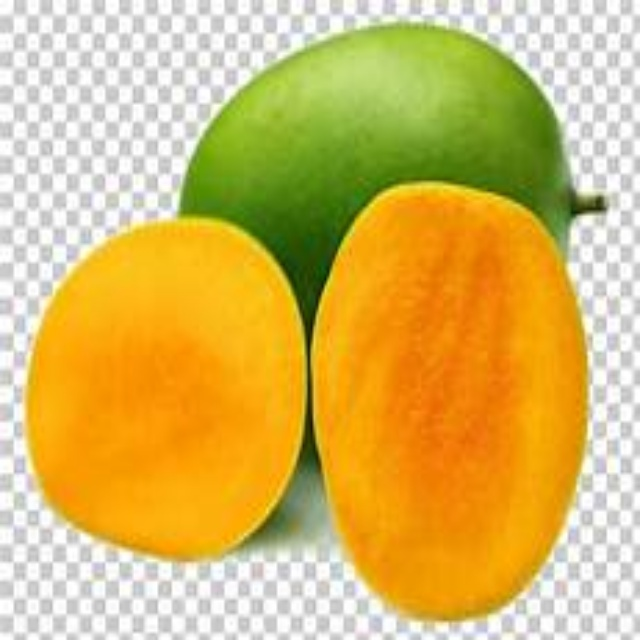mango: (178, 23, 608, 312), (312, 188, 589, 620), (29, 218, 303, 567)
